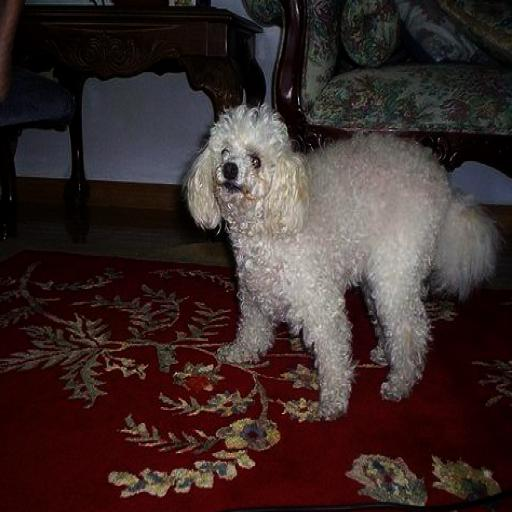dog_face: (184, 106, 299, 226)
